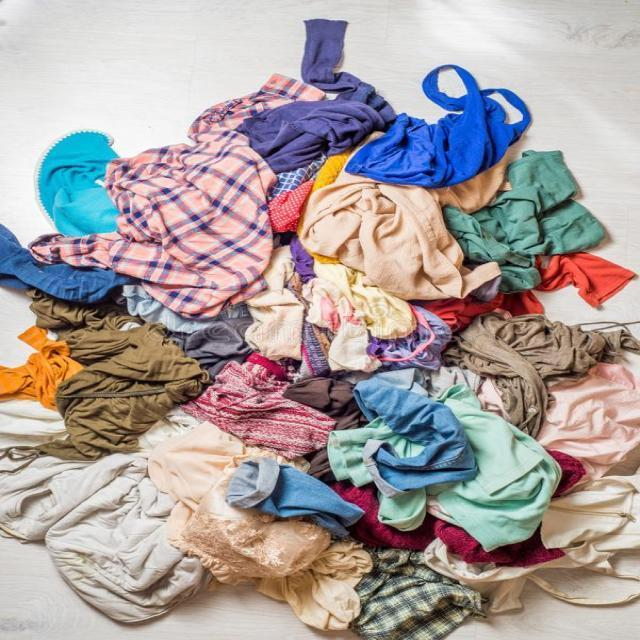clothes: (242, 416, 620, 571), (58, 71, 296, 309), (164, 382, 383, 640), (423, 307, 640, 558), (18, 437, 215, 635), (0, 327, 200, 477), (314, 160, 503, 316), (440, 142, 610, 294), (354, 59, 535, 200), (226, 23, 397, 165)
